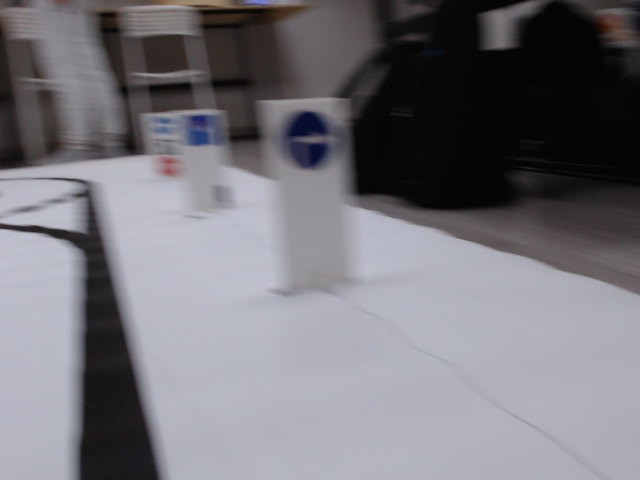Right: (283, 109, 333, 167)
